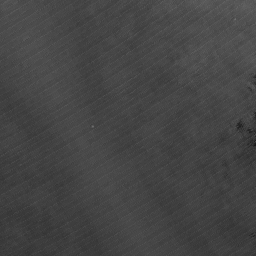Target: (88, 123, 96, 130)
